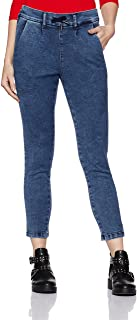jeans: (8, 7, 130, 240)
